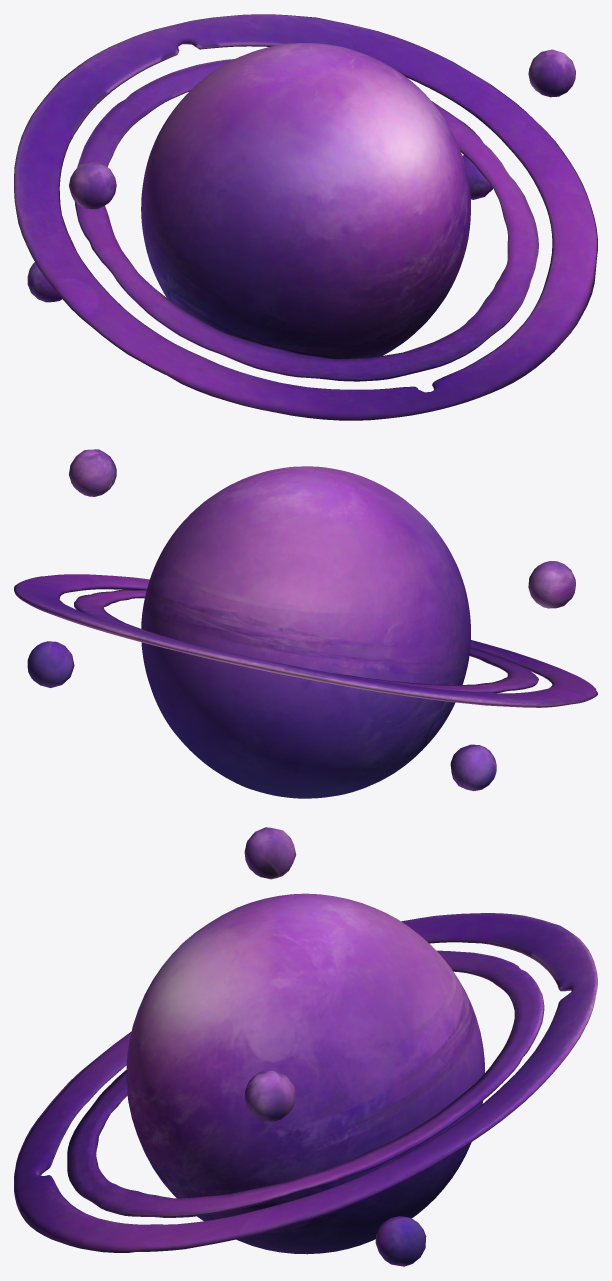
The model's file is planet.glb.
3 renders of one model, top to bottom at view 1: azimuth 30°, elevation 25°; view 2: azimuth 150°, elevation 25°; view 3: azimuth 270°, elevation 25°, orthographic. The views are drawn at different scales.
Size of the model in its own units: 1.92 by 1.07 by 1.74.
Materials: 1 (1 with a texture image).
